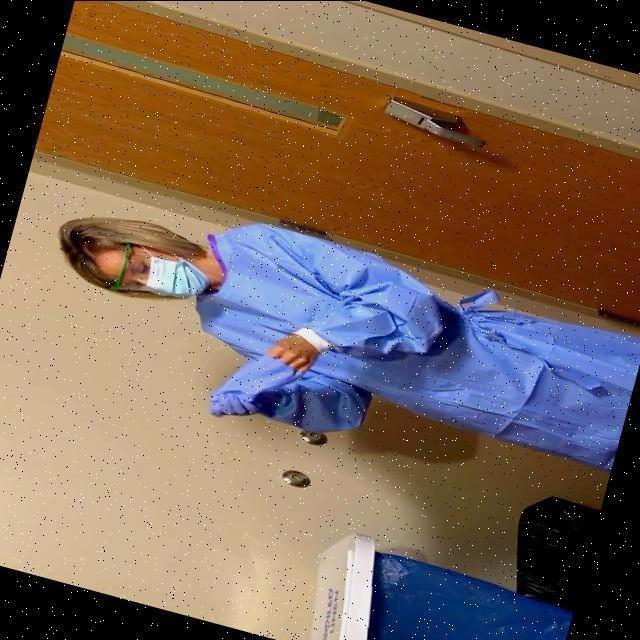apron: (215, 366, 295, 432)
mask: (152, 256, 212, 301)
no_apron: (267, 323, 322, 371)
no_gloves: (57, 220, 115, 285)
